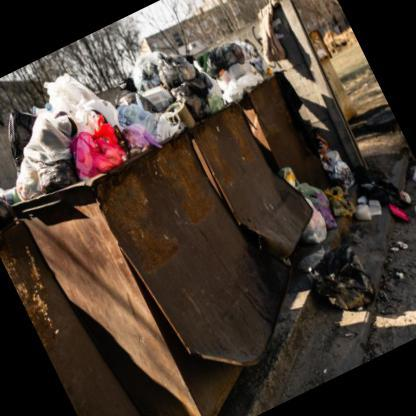Garbage: (306, 245, 392, 329), (35, 60, 116, 136), (300, 259, 362, 344), (352, 147, 415, 225), (64, 112, 134, 181), (13, 102, 86, 165), (3, 141, 78, 202), (311, 128, 363, 196), (123, 34, 179, 92), (292, 190, 347, 246), (318, 176, 362, 230), (193, 35, 247, 79), (236, 34, 280, 86), (0, 101, 40, 156), (113, 88, 158, 132), (133, 76, 177, 120), (117, 114, 160, 156), (155, 48, 196, 88), (295, 174, 334, 216), (387, 184, 415, 242), (0, 158, 21, 231), (144, 106, 184, 143), (353, 186, 387, 228), (212, 73, 246, 106), (276, 162, 304, 198), (0, 180, 19, 233), (297, 240, 331, 268), (188, 76, 216, 107), (235, 62, 264, 86), (180, 96, 205, 122), (206, 79, 228, 106)
